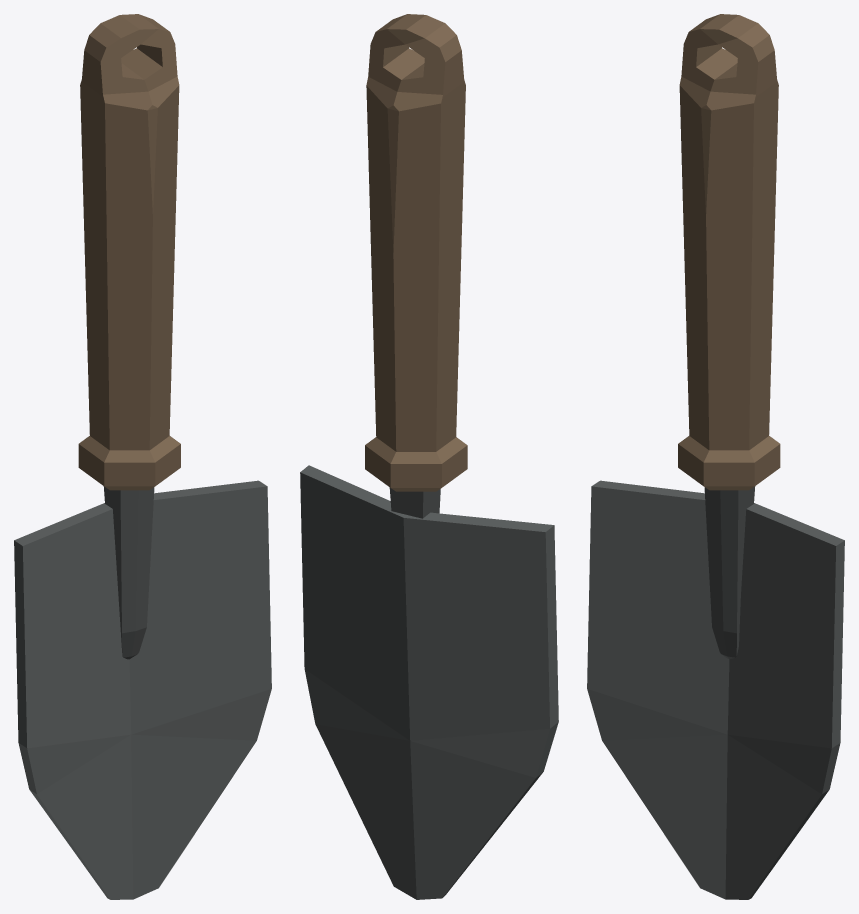
The model's file is SM_Props_Farm_Tool_HandTrowel_Big.fbx.
The picture shows the model from 3 angles, left to right: view 1: azimuth 30°, elevation 25°; view 2: azimuth 150°, elevation 25°; view 3: azimuth 330°, elevation 25°; orthographic projection.
Visible parts, largest first — view 1: SM_Props_Farm_Tool_HandTrowel_Big; view 2: SM_Props_Farm_Tool_HandTrowel_Big; view 3: SM_Props_Farm_Tool_HandTrowel_Big.
Boxes of the visible parts, <box> form: SM_Props_Farm_Tool_HandTrowel_Big: <box>14,14,271,899</box>; SM_Props_Farm_Tool_HandTrowel_Big: <box>300,14,558,899</box>; SM_Props_Farm_Tool_HandTrowel_Big: <box>587,14,844,899</box>.
Bounding box in the file's own units: 17.38 × 59.39 × 6.29.
